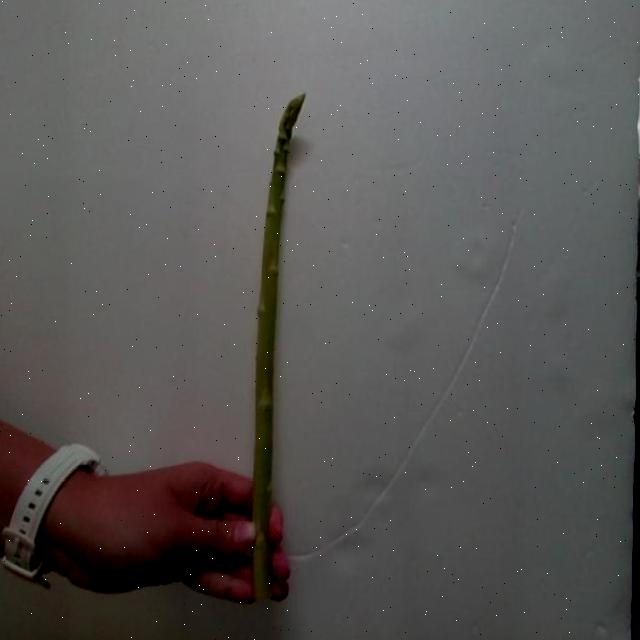aspargus: (250, 95, 304, 603)
